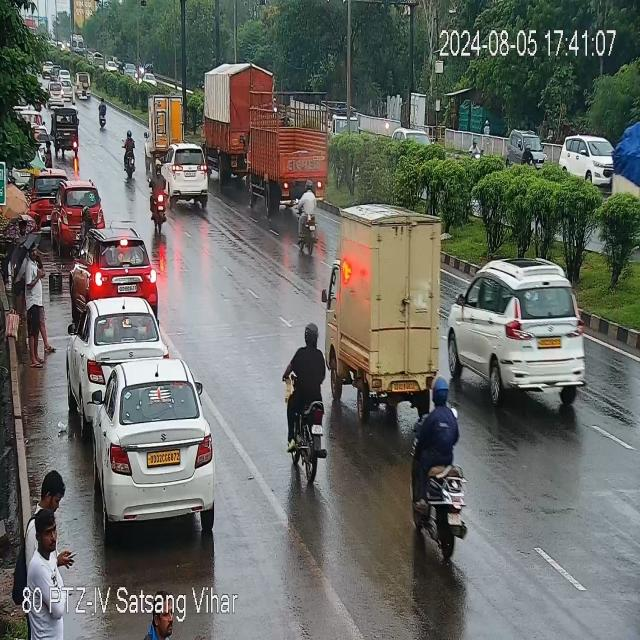2-wheelers: (406, 388, 470, 566), (280, 321, 324, 488), (297, 178, 321, 248), (148, 157, 165, 222), (117, 129, 139, 179), (97, 95, 106, 130)
auto: (51, 107, 83, 153)
car: (451, 256, 594, 404), (93, 360, 217, 527), (71, 295, 161, 400), (86, 228, 158, 302), (555, 134, 628, 198), (55, 180, 116, 245), (160, 143, 212, 208), (29, 165, 66, 216), (43, 66, 88, 102), (507, 128, 544, 168)
pedestrian: (29, 470, 73, 571), (22, 246, 45, 358), (142, 587, 174, 640)
truck: (326, 188, 455, 415), (208, 63, 334, 207), (251, 124, 332, 210), (142, 95, 186, 144)
